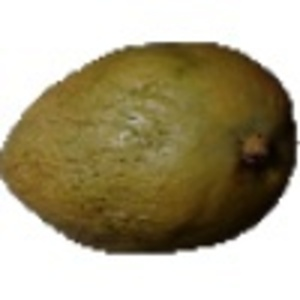mamão: (1, 34, 297, 266)
